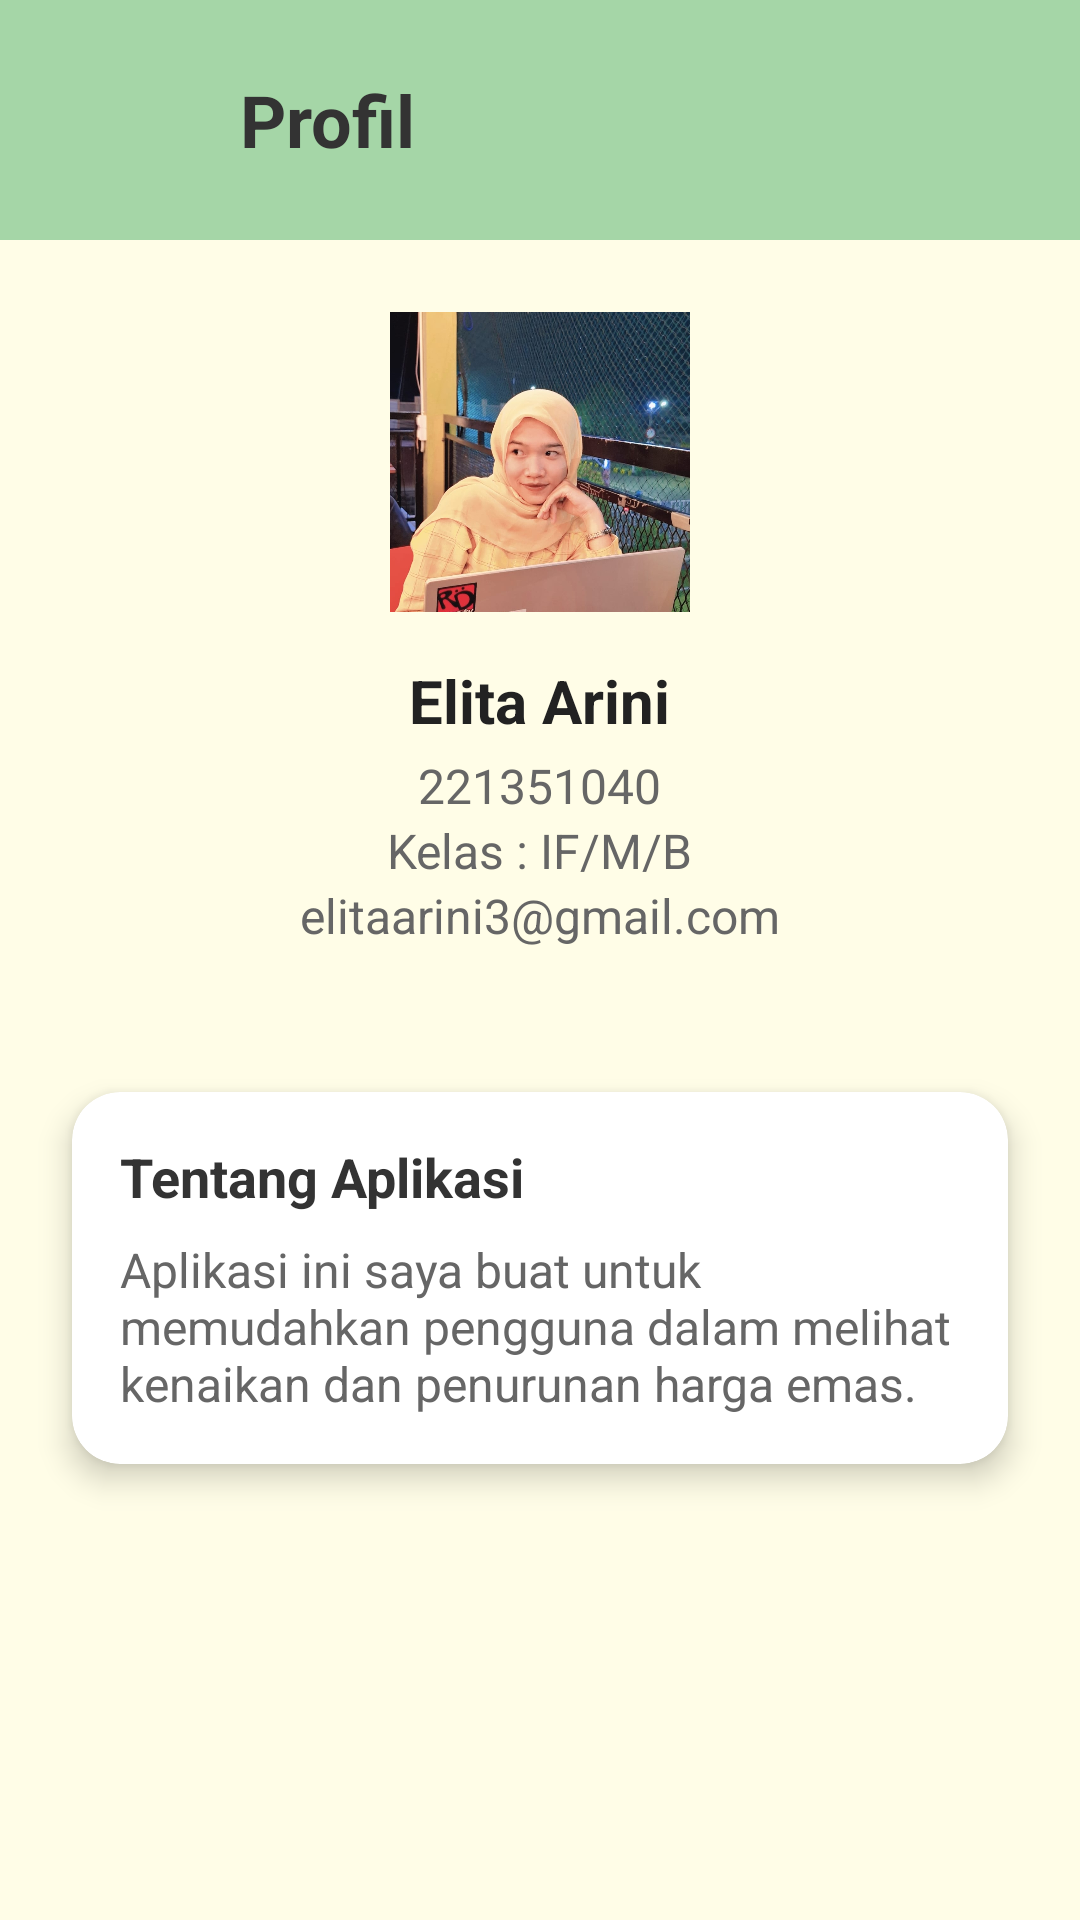

Named icons in this screenshot (1080×1920) and their centers, (x=x, y=y):
person: (x=540, y=462)
